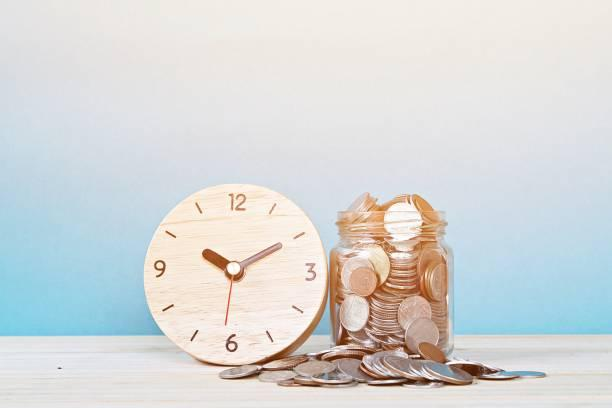clock: (130, 181, 331, 381)
